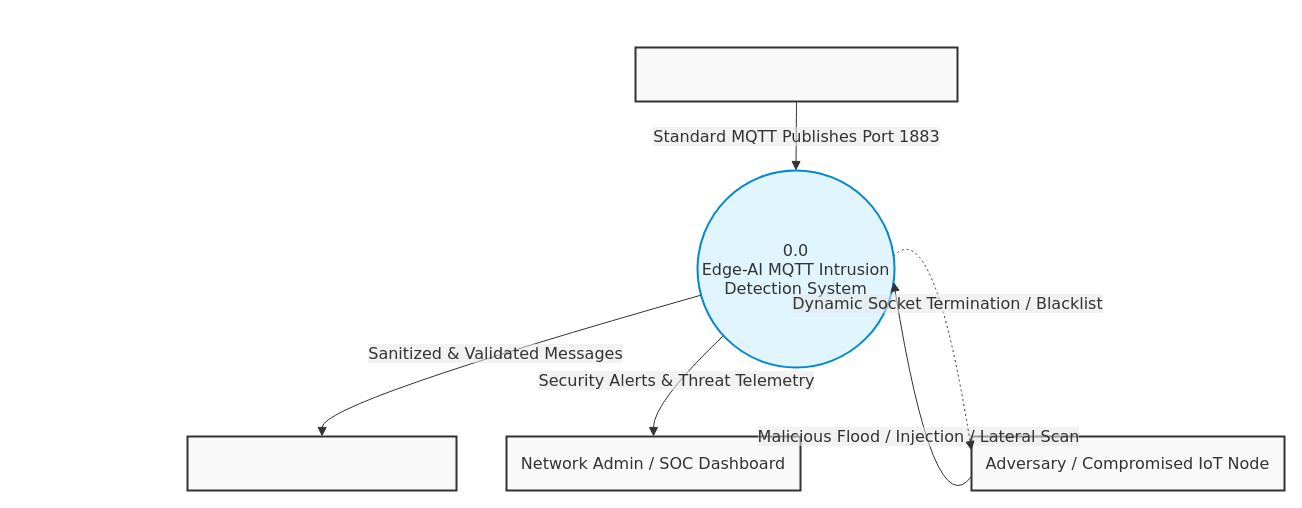
Some shapes in this 1302 by 508 pixel diagram are drawn without their labels. Each missing label, with the box of its shape:
Authorized MQTT Subscribers: (186, 435, 457, 491)
Legitimate IoT Sensors / Edge Nodes: (634, 46, 958, 102)
